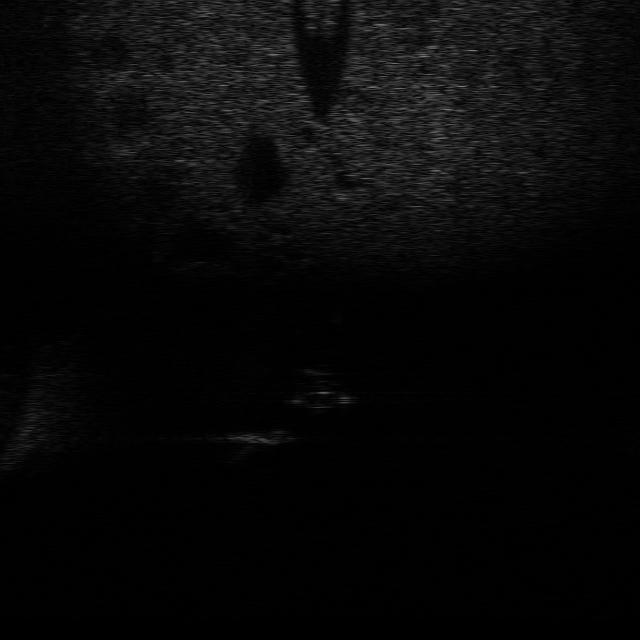ball: (295, 357, 345, 385)
square cage: (220, 422, 299, 466)
tyre: (277, 381, 355, 414)
